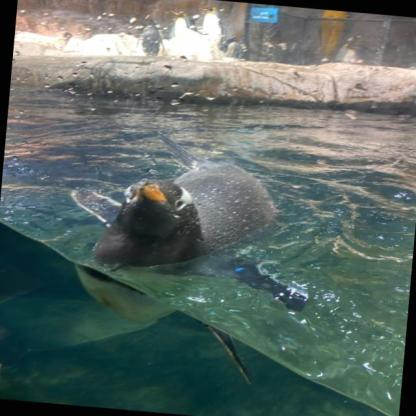penguin: (54, 122, 322, 392), (195, 4, 228, 48), (136, 18, 166, 57), (168, 10, 192, 41), (335, 40, 360, 65), (408, 25, 416, 72)
